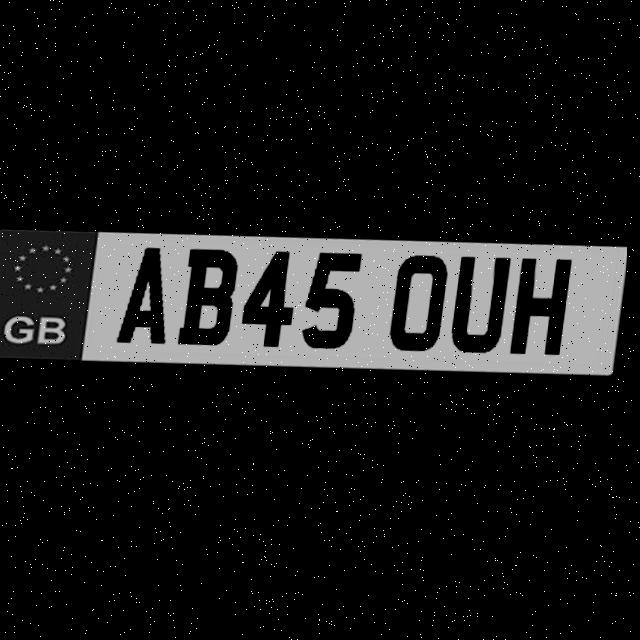license-plates: (0, 228, 628, 372)
